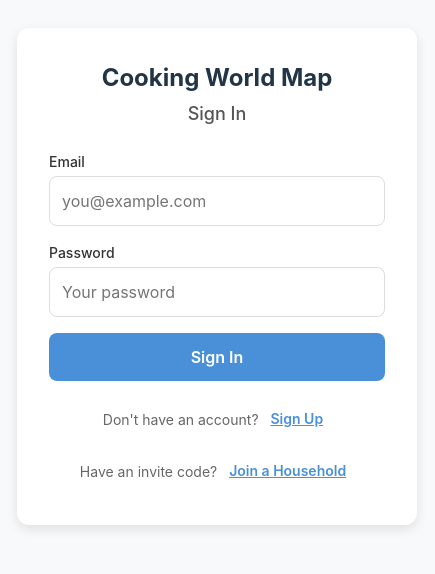
Test: AuthGate › validates password minimum length on sign-up (Req 8.2)
Expected: the field labelled "Email" is shown, x1=49 y1=176 x2=385 y2=226
// Switch to sign-up mode
Click the button "Sign Up".
click(297, 418)  # box x1=262 y1=396 x2=331 y2=440
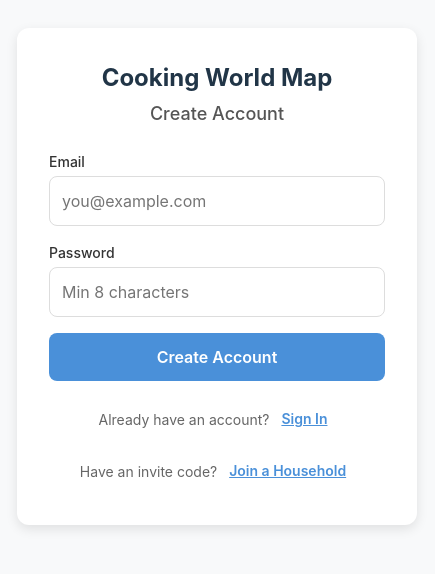
Type "new@example.com" into the field labelled "Email".
click(217, 200); type("new@example.com")  # box x1=49 y1=176 x2=385 y2=226
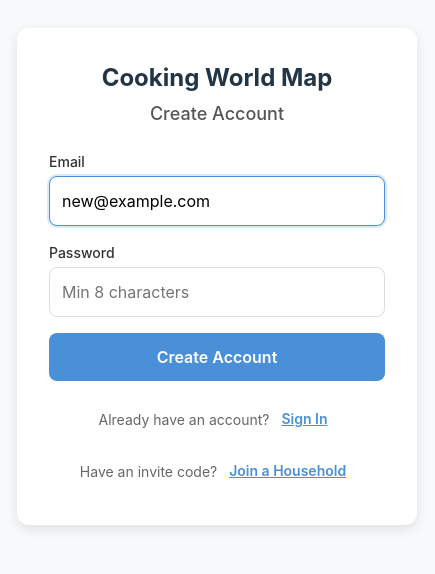
Type "short" into the password field labelled "Password".
click(217, 292); type("short")  # box x1=49 y1=266 x2=385 y2=316
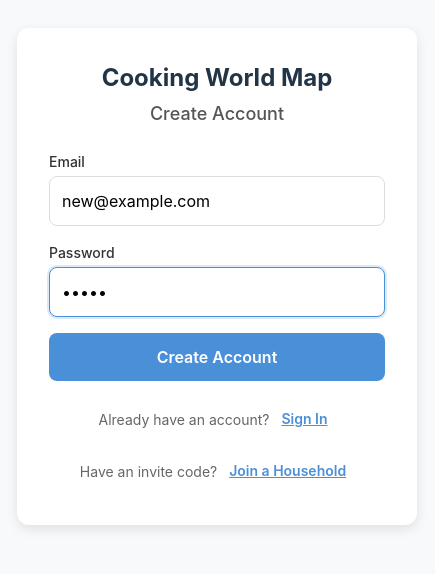
Click the button "Create Account".
click(217, 356)  # box x1=49 y1=332 x2=385 y2=380
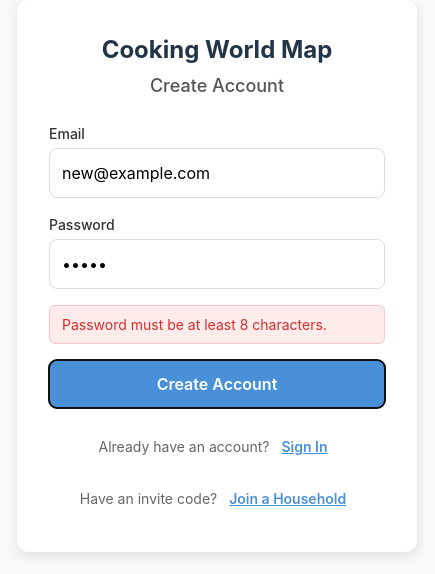
Expected: the message shows "Password must be at least 8 characters", x1=62 y1=316 x2=327 y2=333
